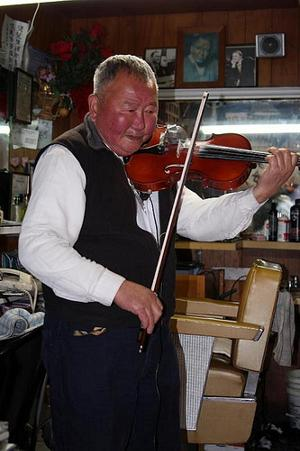person: (18, 55, 298, 451)
